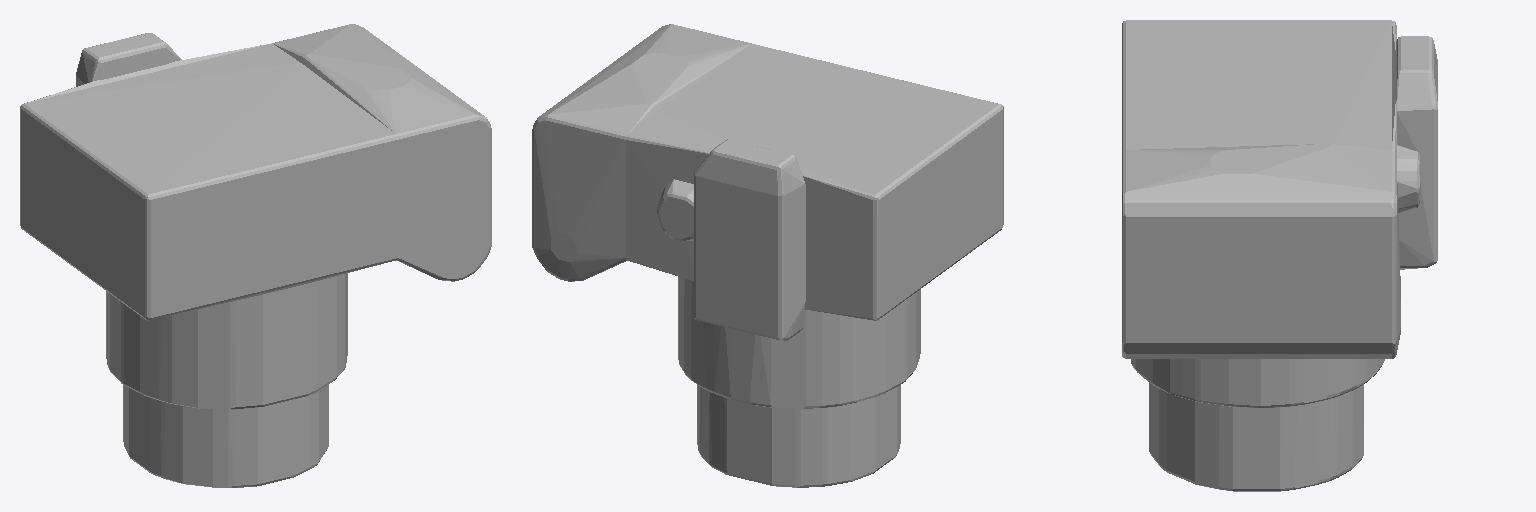
robot.urdf — root:
<?xml version="1.0"?>
<robot name="root">
  <link name="base_link">
    <visual>
      <origin xyz="0 0 0" rpy="0 0 0" />
      <geometry>
        <mesh filename="../meshes/unidex_core_camera-b92acfcd92408529d863a5ae2bdfd29_006.obj" scale="1.0000E+00 1.0000E+00 1.0000E+00" />
      </geometry>
      <material name="">
        <color rgba="7.50E-01 7.50E-01 7.50E-01 1" />
      </material>
    </visual>
    <collision>
      <origin xyz="0 0 0" rpy="0 0 0" />
      <geometry>
        <mesh filename="../meshes/unidex_core_camera-b92acfcd92408529d863a5ae2bdfd29_006.obj" scale="1.0000E+00 1.0000E+00 1.0000E+00" />
      </geometry>
    </collision>
  </link>
</robot>

--- Render facts (derived) ---
3 views of the same robot in one strip: view 1: azimuth 30°, elevation 25°; view 2: azimuth 150°, elevation 25°; view 3: azimuth 270°, elevation 25° (orthographic).
Robot: root — 1 links, 0 joints (none); root link base_link; default pose: every joint at zero.
Links seen in each view (by area): view 1: base_link; view 2: base_link; view 3: base_link.
Link boxes in pixels (x1=…): base_link: x1=20, y1=24, x2=491, y2=487; base_link: x1=532, y1=24, x2=1003, y2=487; base_link: x1=1122, y1=20, x2=1437, y2=491.
Bounding box of the posed robot: 0.078 × 0.0577 × 0.0764 m (x, y, z).
1 mesh visuals loaded from 1 distinct referenced files (1 OBJ).
